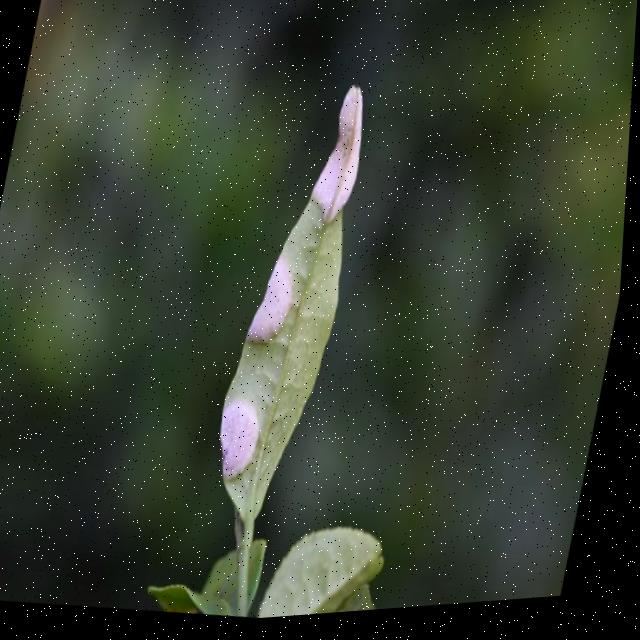Tea cake: (309, 83, 389, 243), (243, 246, 308, 366), (211, 394, 282, 503)
